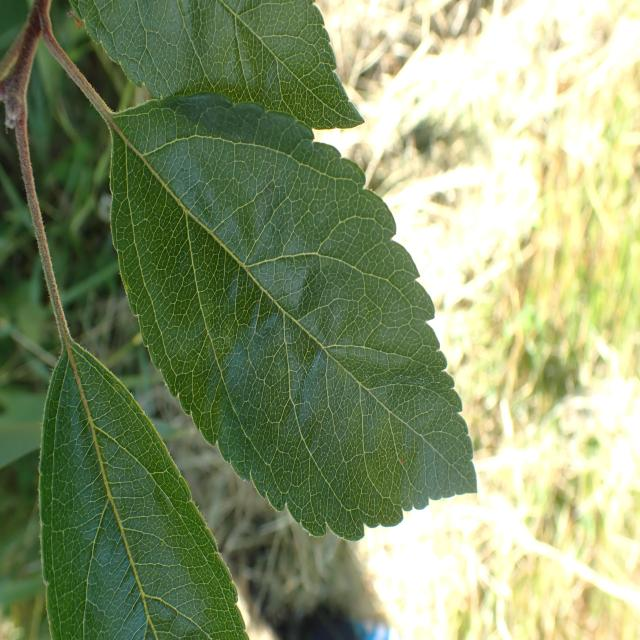healthy: (109, 92, 479, 543), (38, 343, 251, 640), (69, 0, 368, 132)
